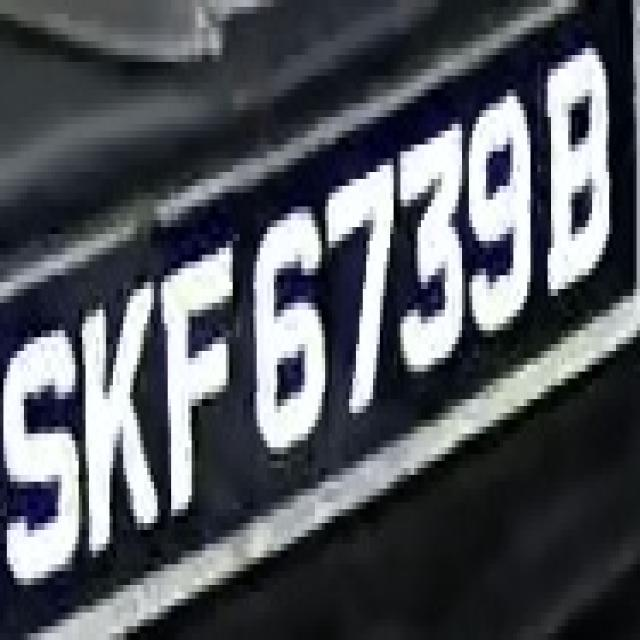3: (394, 117, 462, 399)
6: (243, 165, 329, 482)
7: (318, 138, 397, 454)
9: (466, 96, 538, 372)
B: (530, 34, 626, 310)
F: (150, 227, 240, 564)
K: (86, 248, 150, 557)
S: (10, 296, 82, 612)
